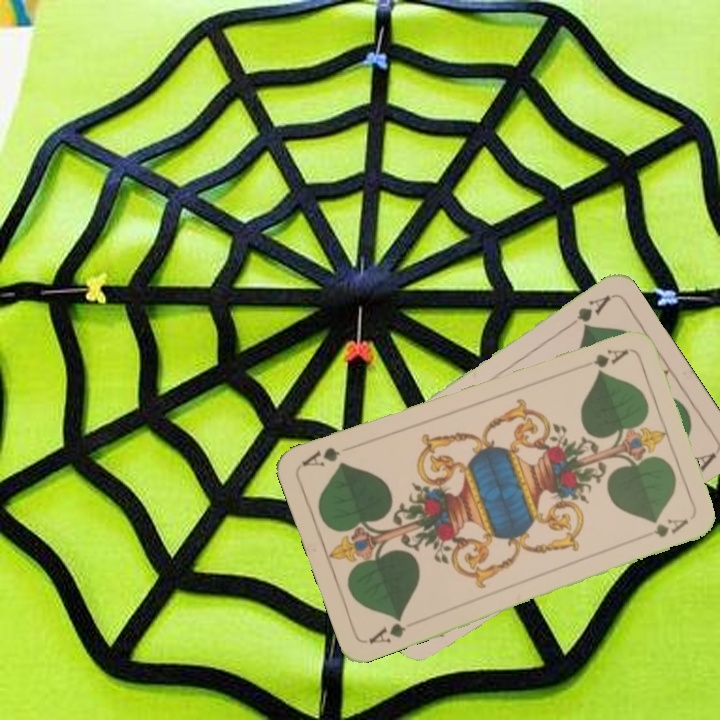GA: (562, 291, 613, 332), (573, 344, 631, 372), (364, 613, 409, 647)
